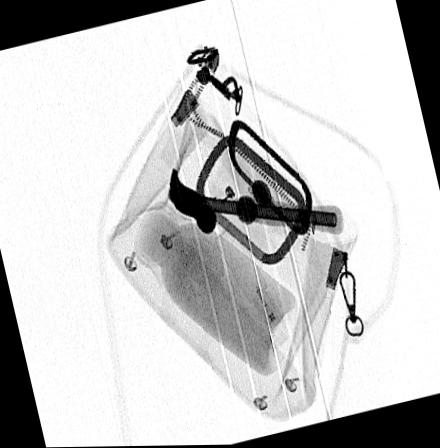Hammer: (168, 166, 345, 236)
